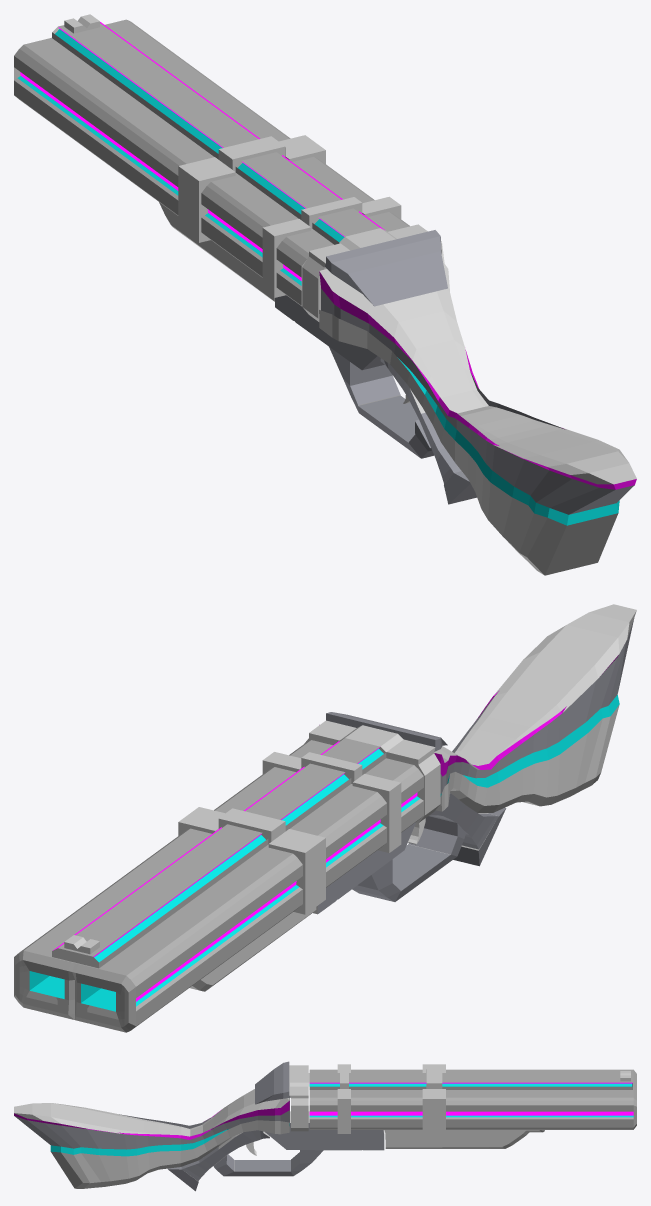
Rendered from doubleBarrel.fbx.
3 views of the same model, one above another, from view 1: azimuth 30°, elevation 25°; view 2: azimuth 150°, elevation 25°; view 3: azimuth 270°, elevation 25° (orthographic). The views are drawn at different scales.
Parts seen in each view (by area): view 1: Cube.001, Cube.007; view 2: Cube.007, Cube.001; view 3: Cube.007, Cube.001.
Part boxes in pixels (box(x1,y1,x2,y2)): Cube.001: box(275, 224, 636, 575); Cube.007: box(14, 14, 409, 306); Cube.007: box(14, 725, 423, 1032); Cube.001: box(304, 604, 636, 914); Cube.007: box(290, 1064, 636, 1148); Cube.001: box(14, 1061, 384, 1191).
Bounding box in the file's own units: 124 × 186 × 933.
